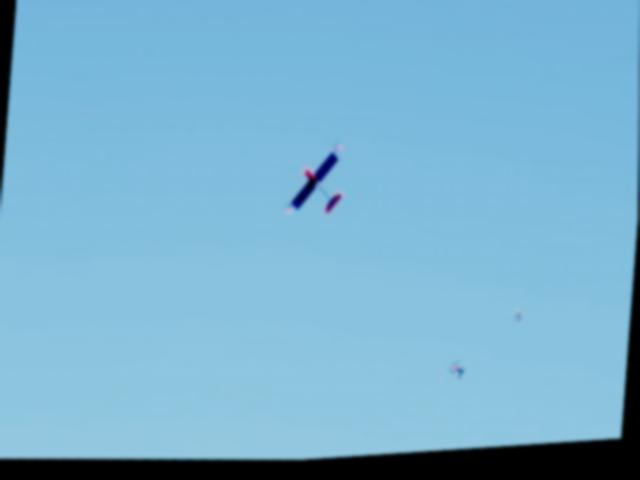uav: (275, 128, 362, 235)
